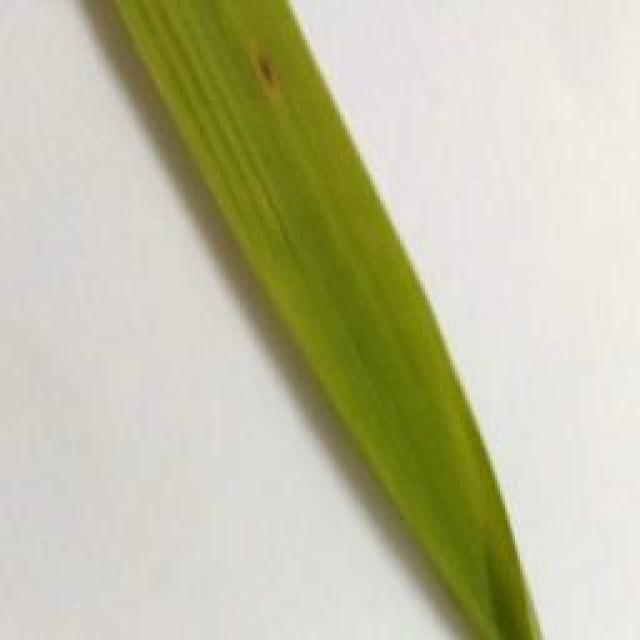Brown_Spot: (248, 45, 296, 100)
